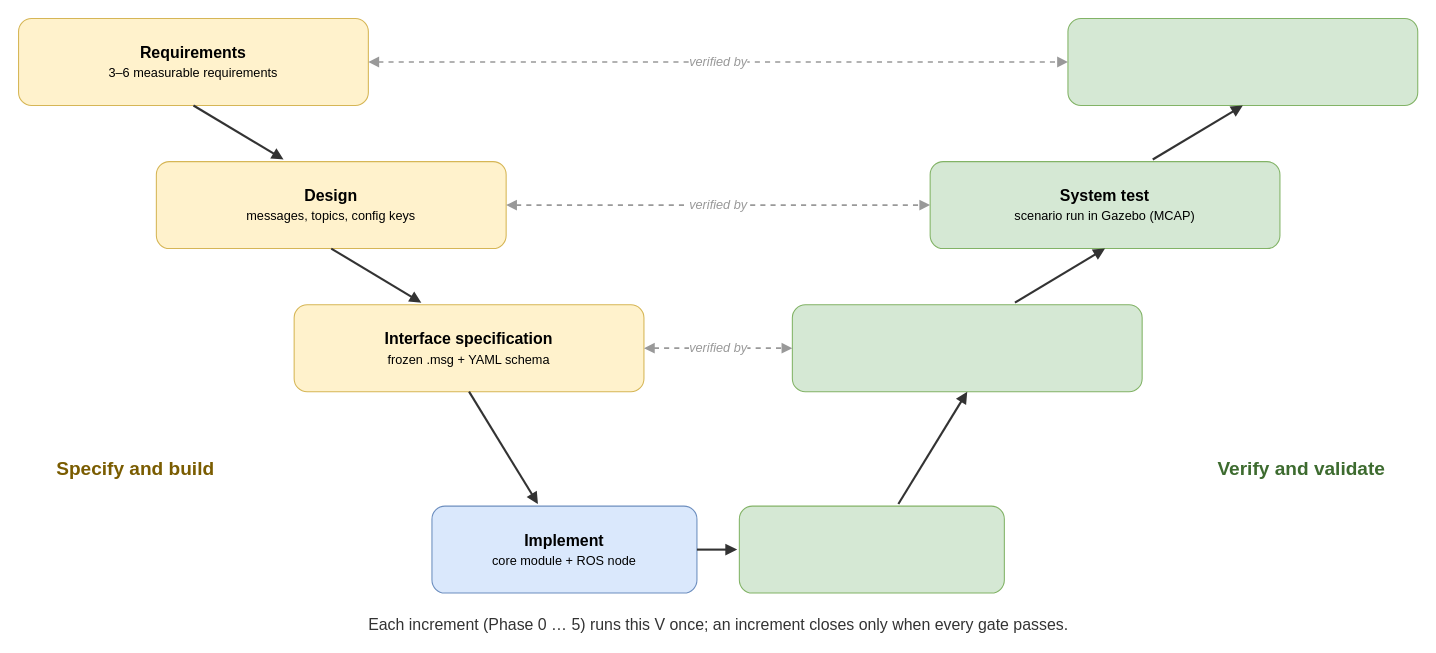
Image size: 1436x653. Some labels were removed from this diagram. Each missing label, with the box of its shape:
Integration test nodes + topics + NDNd / Redis: (791, 304, 1142, 392)
Unit test pytest, ≥ 80 % coverage: (738, 505, 1004, 593)
Validation experiments meet targets?: (1067, 17, 1418, 105)
